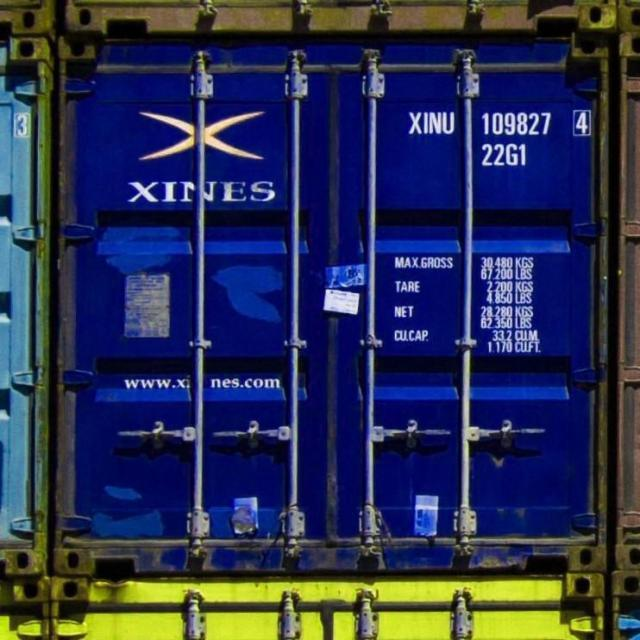ISO: (480, 142, 530, 168)
container_number: (409, 110, 587, 137)
